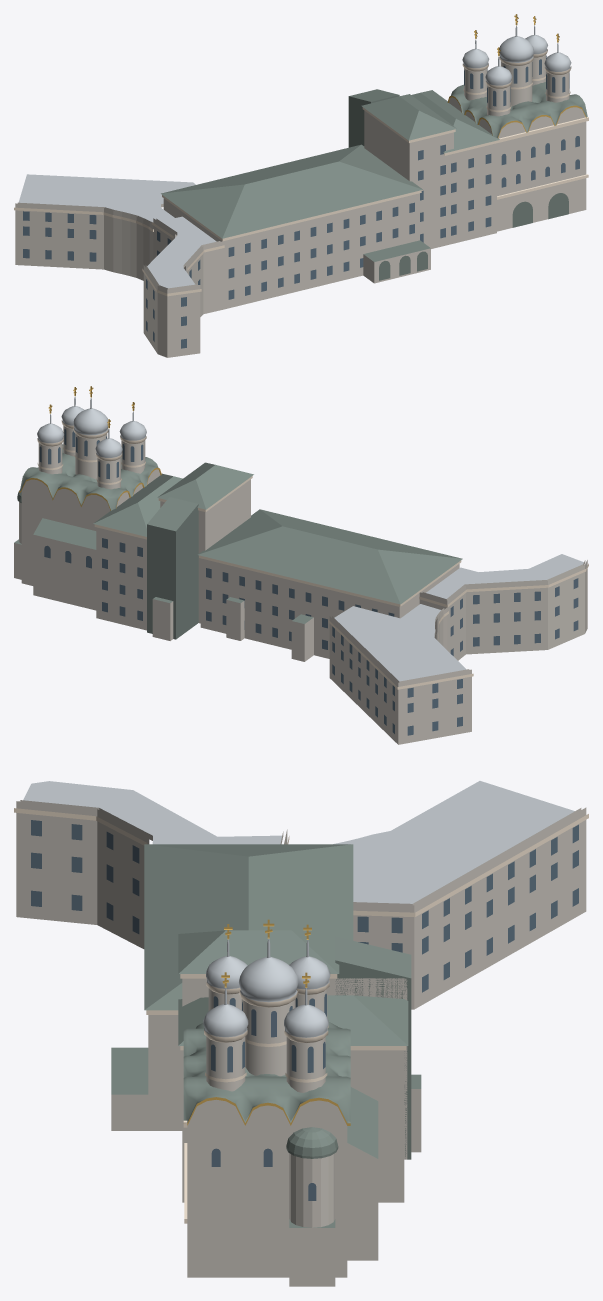
Rendered from moscow-patriarchs-palace.glb.
3 views of the same model, one above another, from view 1: azimuth 30°, elevation 25°; view 2: azimuth 150°, elevation 25°; view 3: azimuth 270°, elevation 25° (orthographic). The views are drawn at different scales.
Visible parts, largest first — view 1: Patriarch's Palace; view 2: Patriarch's Palace; view 3: Patriarch's Palace.
Part boxes in pixels (bbox=[...]): Patriarch's Palace: bbox=[14, 14, 588, 357]; Patriarch's Palace: bbox=[14, 386, 588, 744]; Patriarch's Palace: bbox=[14, 781, 588, 1286].
Bounding box in the file's own units: 97.48 × 35.3 × 57.51.
